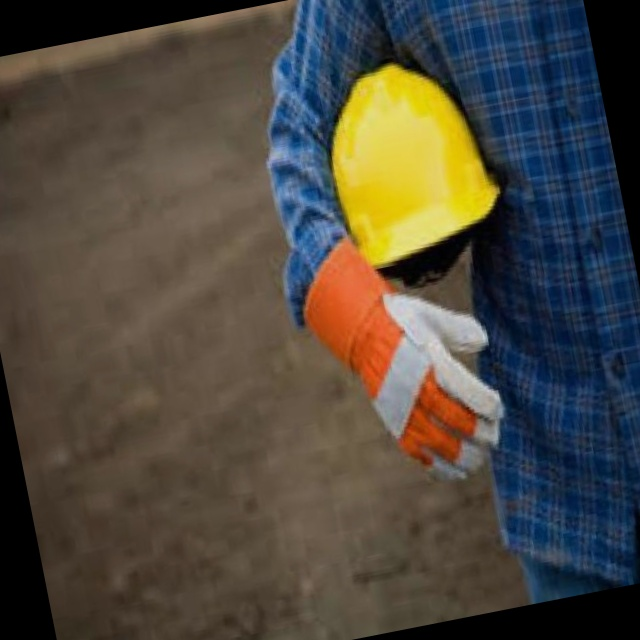gloves: (286, 244, 493, 518)
helmet: (357, 82, 528, 307)
